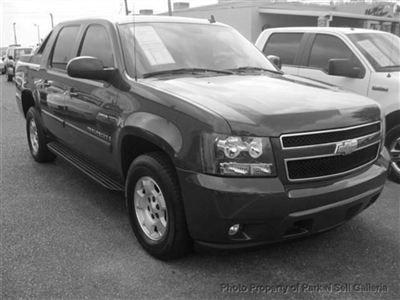car: (11, 10, 396, 265)
